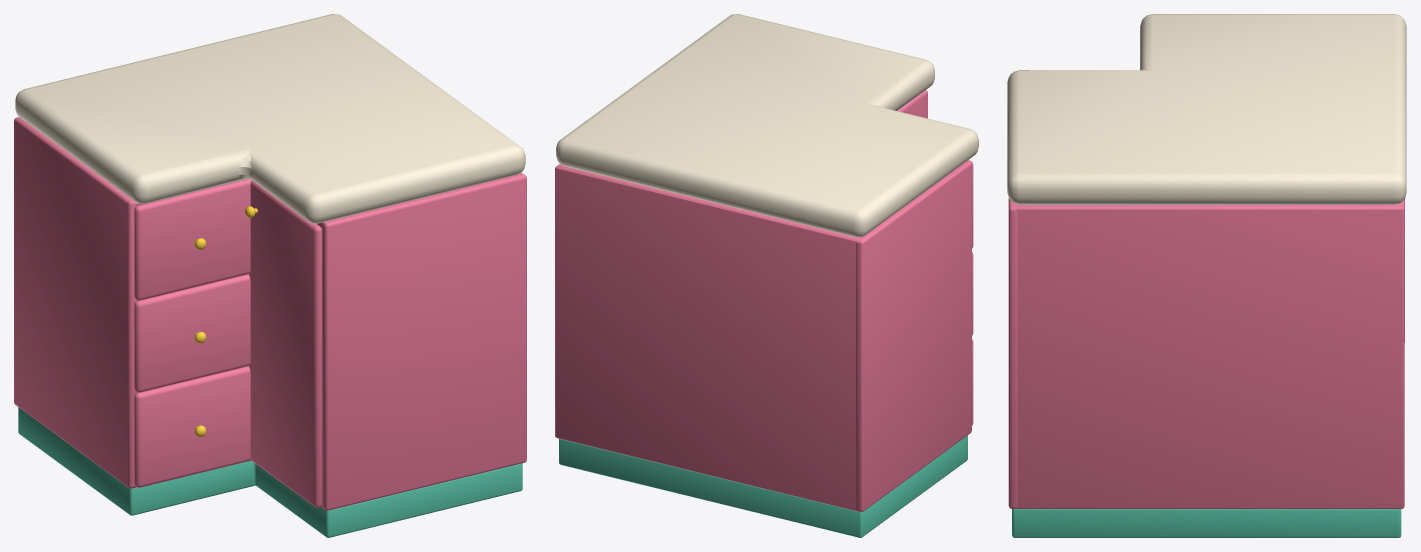
Rendered from armario_cozinha_canto_verde_rosa.glb.
The picture shows the model from 3 angles, left to right: view 1: azimuth 30°, elevation 25°; view 2: azimuth 150°, elevation 25°; view 3: azimuth 270°, elevation 25°; orthographic projection. The views are drawn at different scales.
Visible parts, largest first — view 1: armario_cozinha_canto_verde_rosa, porta_1, gaveta_3, gaveta_1, gaveta_2; view 2: armario_cozinha_canto_verde_rosa; view 3: armario_cozinha_canto_verde_rosa.
Part boxes in pixels (left/top/right/bottom): armario_cozinha_canto_verde_rosa: left=14, top=14, right=526, bottom=537; porta_1: left=245, top=180, right=322, bottom=507; gaveta_3: left=134, top=366, right=250, bottom=487; gaveta_1: left=134, top=179, right=251, bottom=300; gaveta_2: left=134, top=274, right=250, bottom=392; armario_cozinha_canto_verde_rosa: left=555, top=14, right=978, bottom=537; armario_cozinha_canto_verde_rosa: left=1007, top=14, right=1406, bottom=537.
Bounding box in the file's own units: 0.898 × 0.9 × 0.899.
1 material, 1 textured.
